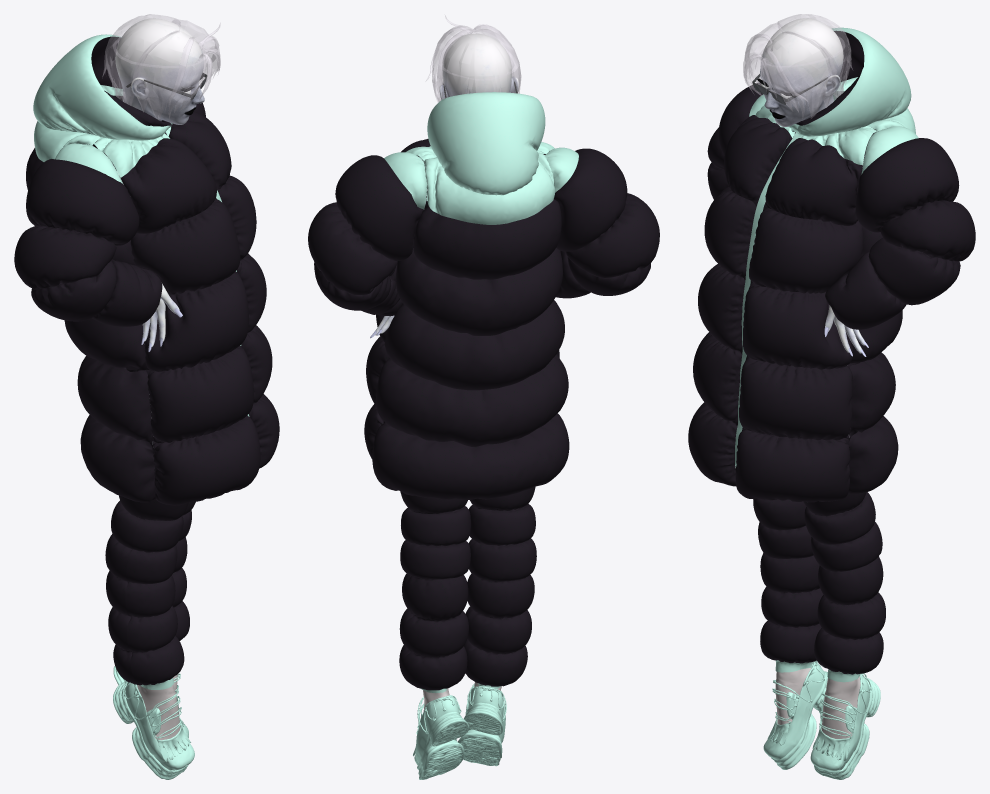
The model's file is Avatar_Puffer_draco2.glb.
3 renders of one model, left to right at view 1: azimuth 30°, elevation 25°; view 2: azimuth 150°, elevation 25°; view 3: azimuth 270°, elevation 25°, orthographic.
Parts seen in each view (by area): view 1: Genesis9, Shoes, hair, Socks; view 2: Genesis9, Shoes, hair; view 3: Genesis9, Shoes, hair, Socks.
Part boxes in pixels (bbox=[...]): Genesis9: bbox=[14, 18, 279, 685]; Shoes: bbox=[33, 34, 249, 779]; hair: bbox=[102, 14, 220, 119]; Socks: bbox=[137, 674, 180, 740]; Genesis9: bbox=[308, 33, 659, 690]; Shoes: bbox=[384, 92, 578, 779]; hair: bbox=[426, 15, 521, 102]; Genesis9: bbox=[688, 18, 975, 674]; Shoes: bbox=[735, 27, 918, 779]; hair: bbox=[743, 14, 852, 118]; Socks: bbox=[775, 667, 860, 738].
Bounding box in the file's own units: 67.18 × 183 × 64.05.
Materials: 15 (15 with a texture image).
